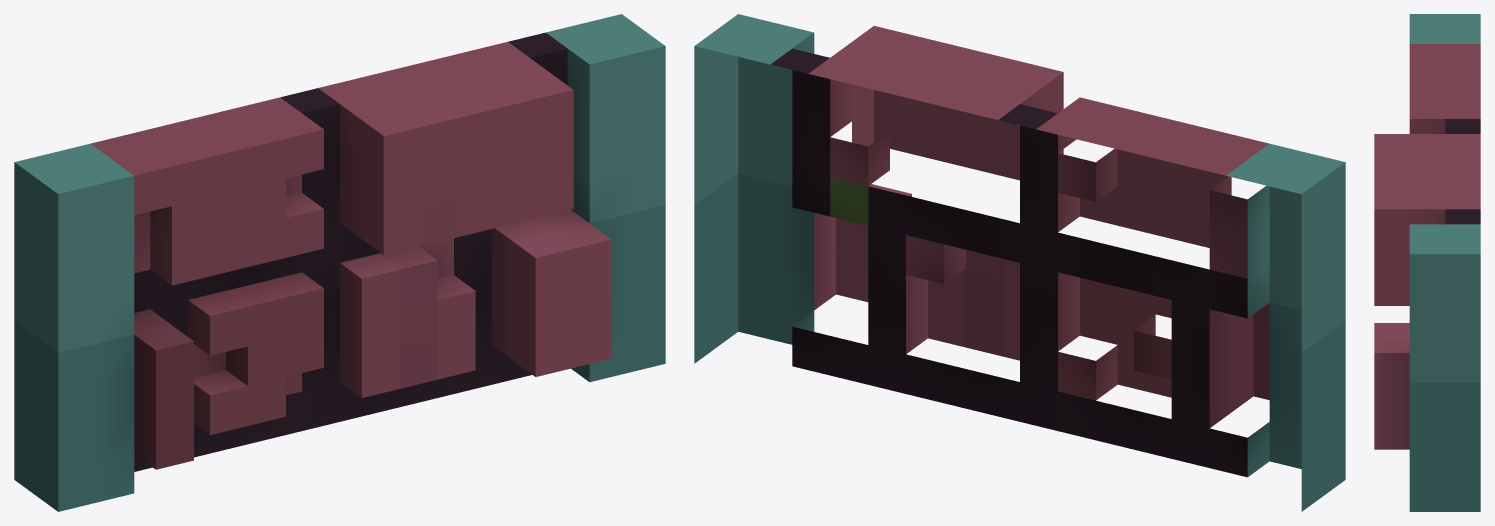
The model's file is wall_plain_1.glb.
3 views of the same model, side by side, from view 1: azimuth 30°, elevation 25°; view 2: azimuth 150°, elevation 25°; view 3: azimuth 270°, elevation 25° (orthographic). The views are drawn at different scales.
Parts seen in each view (by area): view 1: wall_plain_1; view 2: wall_plain_1; view 3: wall_plain_1.
Part boxes in pixels (<box>): wall_plain_1: <box>14,14,665,511</box>; wall_plain_1: <box>694,14,1345,511</box>; wall_plain_1: <box>1374,14,1480,511</box>.
Bounding box in the file's own units: 1 × 0.5 × 0.1875.
